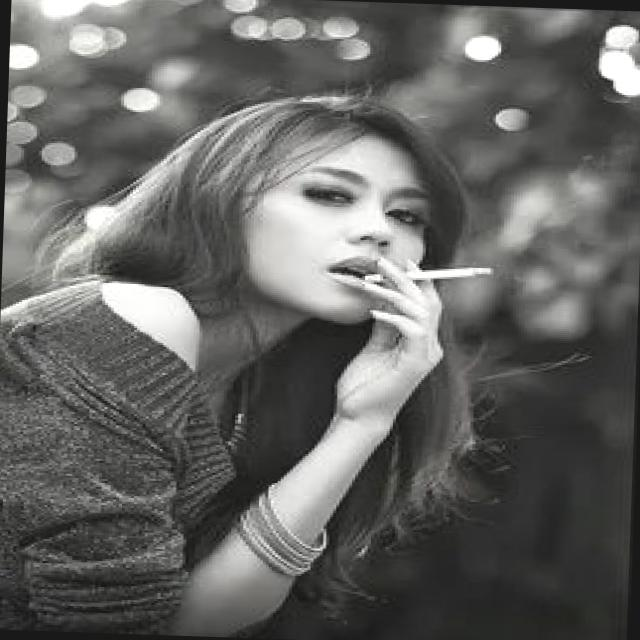cigarette: (358, 262, 499, 290)
